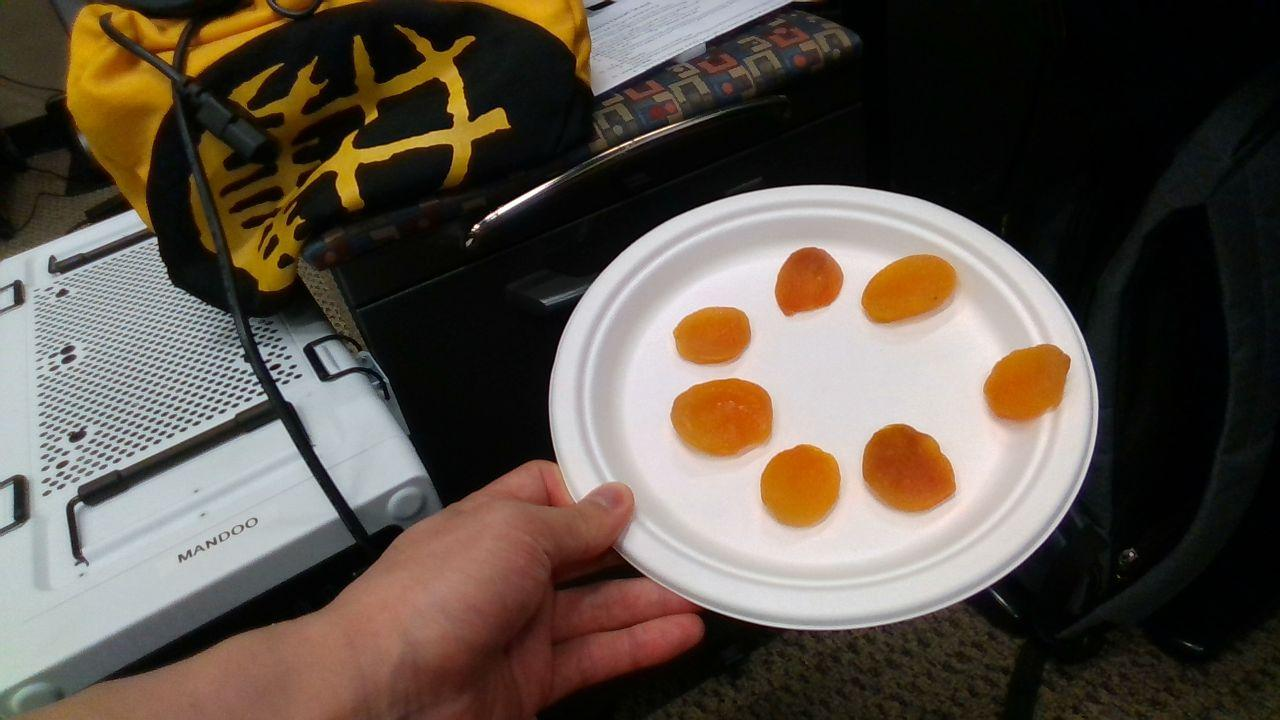apricot: (864, 425, 955, 511), (672, 380, 772, 457), (985, 344, 1070, 421), (761, 444, 840, 526), (862, 254, 956, 322), (675, 308, 751, 363), (777, 249, 841, 314)
